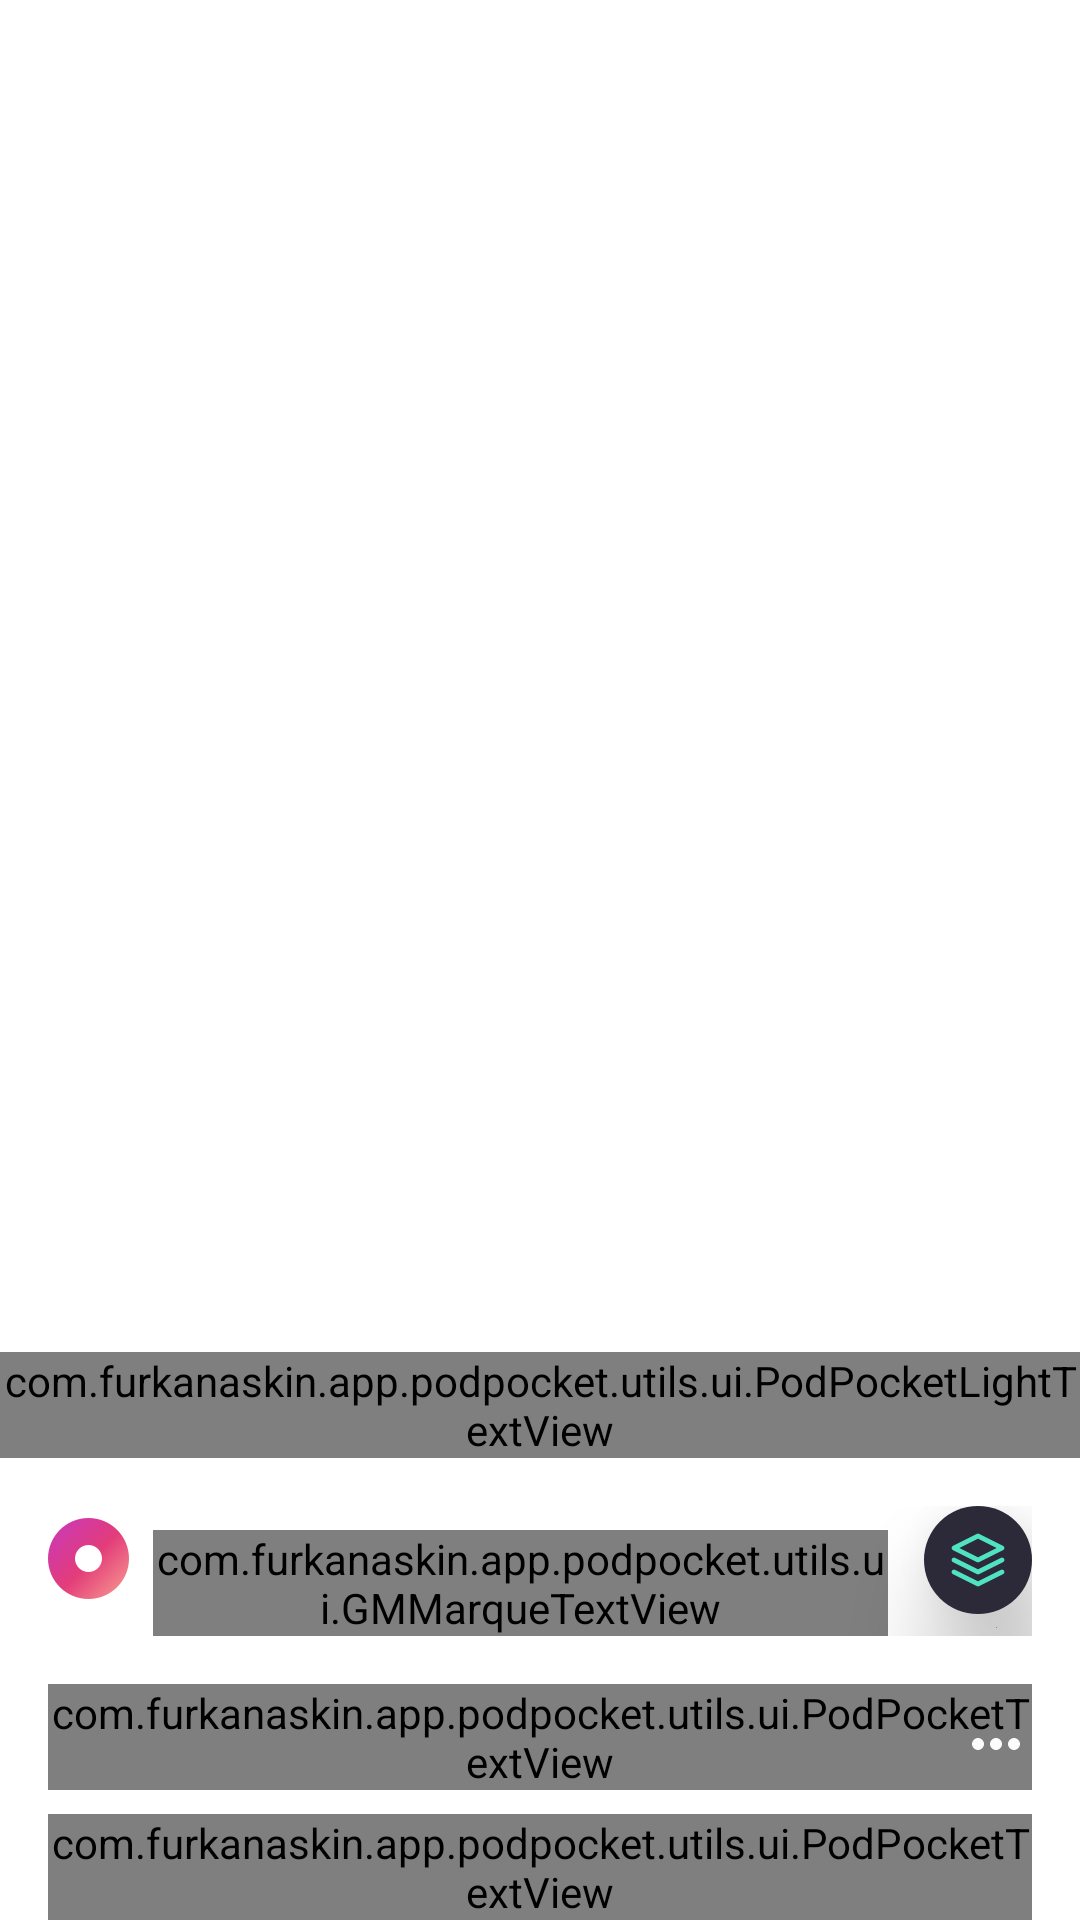

Where icons sit on this 1080*1920 app screen, as (x1, y1, x2, y2):
track disk: (48, 1518, 129, 1599)
track list: (924, 1506, 1032, 1614)
